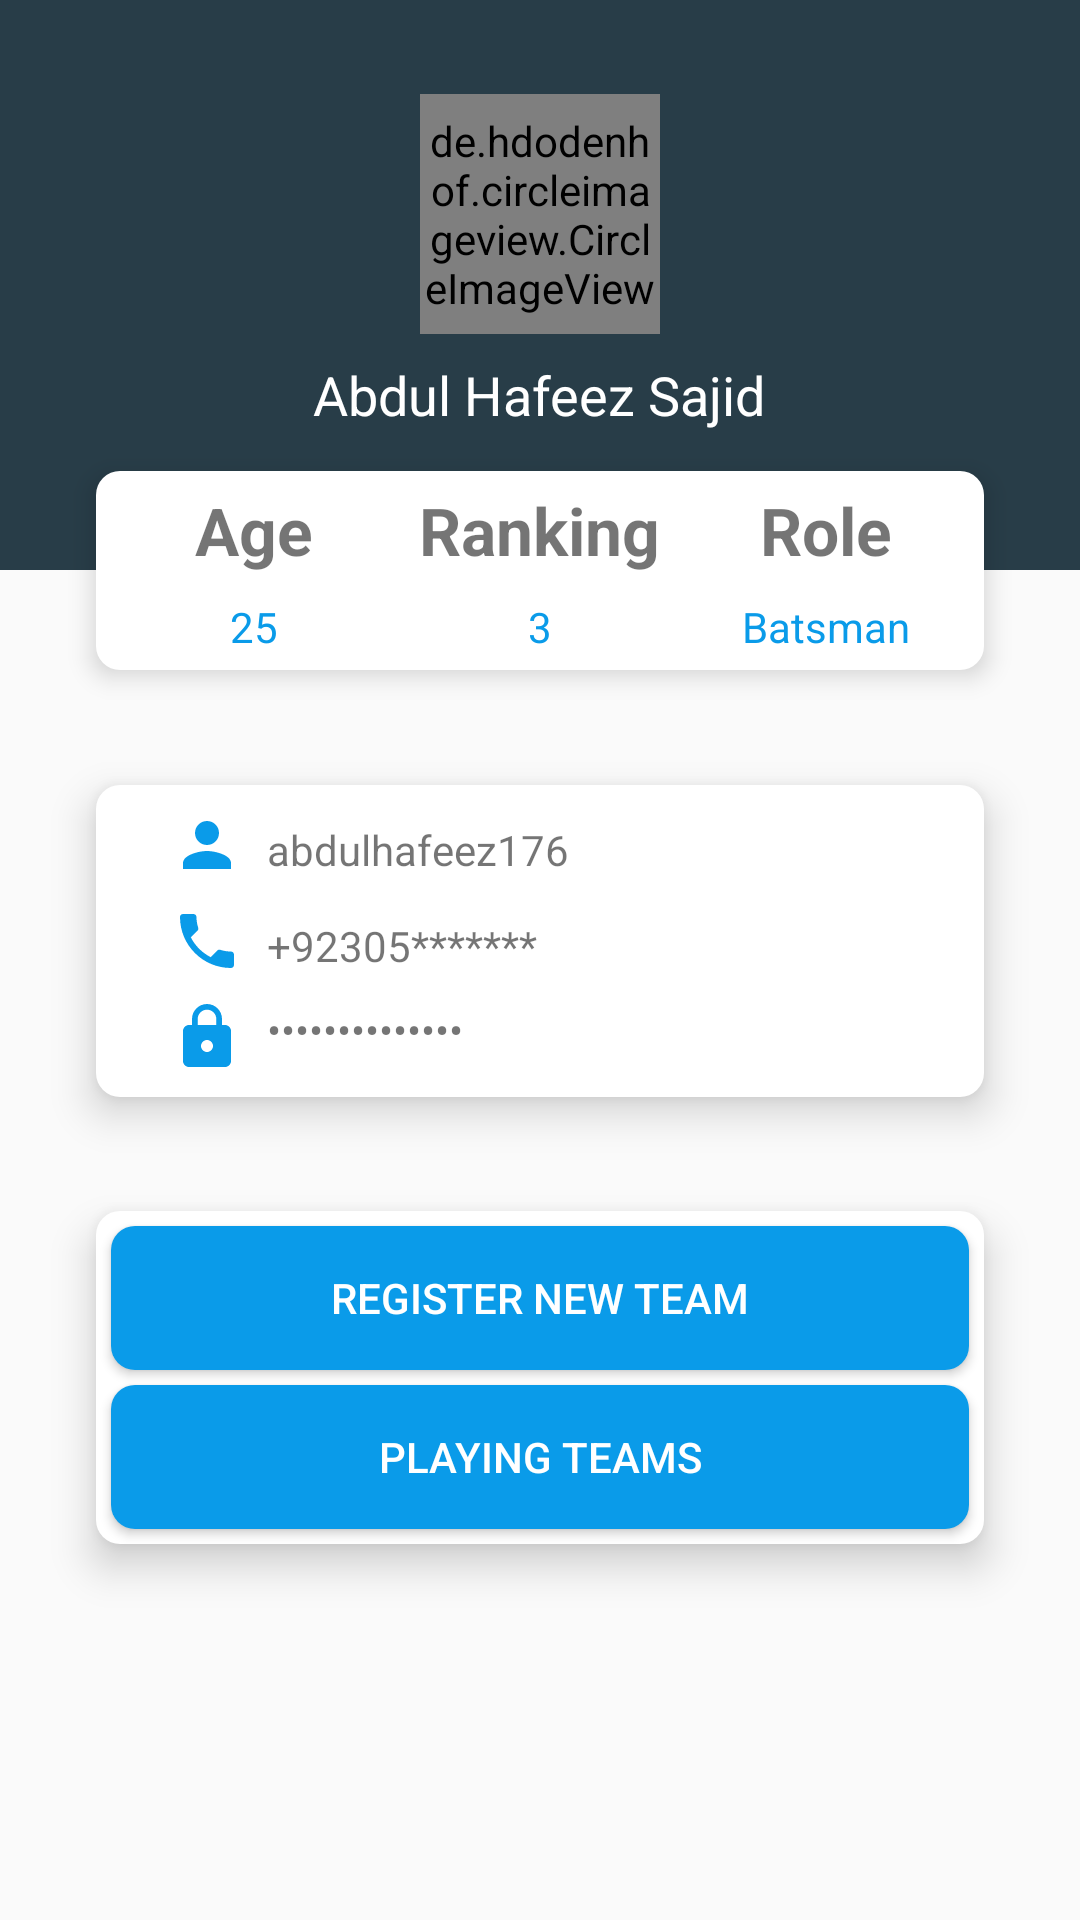

Screen size 1080×1920. Icon name, then its center in pixels as (x=x, y=y):
call: (x=207, y=941)
lock blackcol: (x=207, y=1035)
person blackcol: (x=207, y=845)
